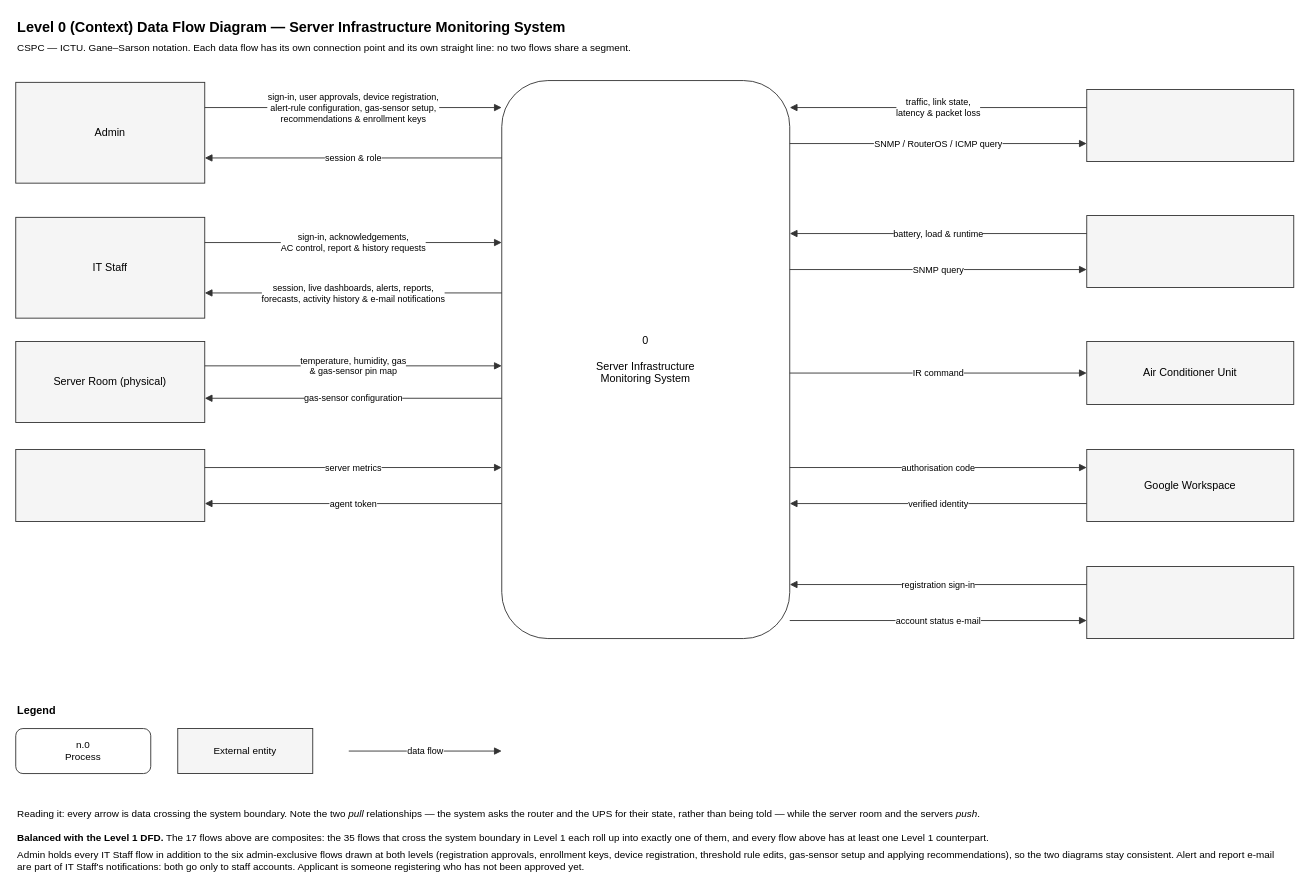
This 1310x887 diagram has some shape labels left out. The centre of each missing label's shape, as x and y in pixels:
"Applicant" goes at (1190,602).
"Monitored Server" goes at (110,485).
"Router / MikroTik" goes at (1190,125).
"UPS Unit" goes at (1190,251).
